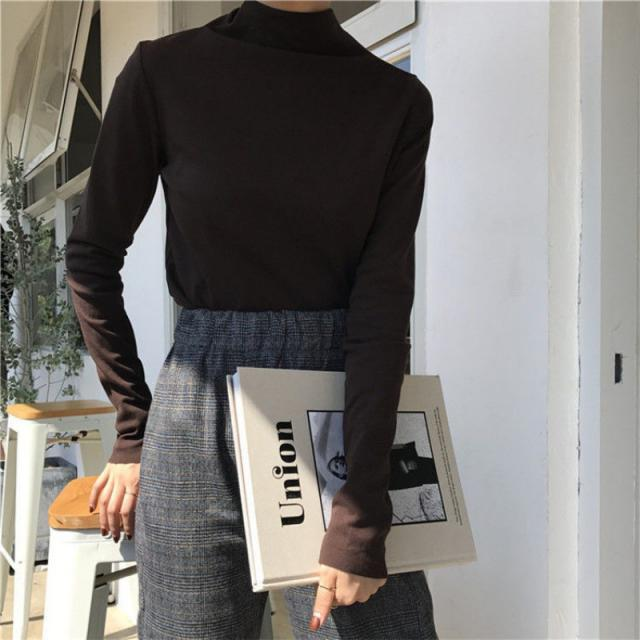Shirt: (61, 0, 445, 591)
